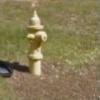a fire hydrant: (28, 10, 48, 76)
